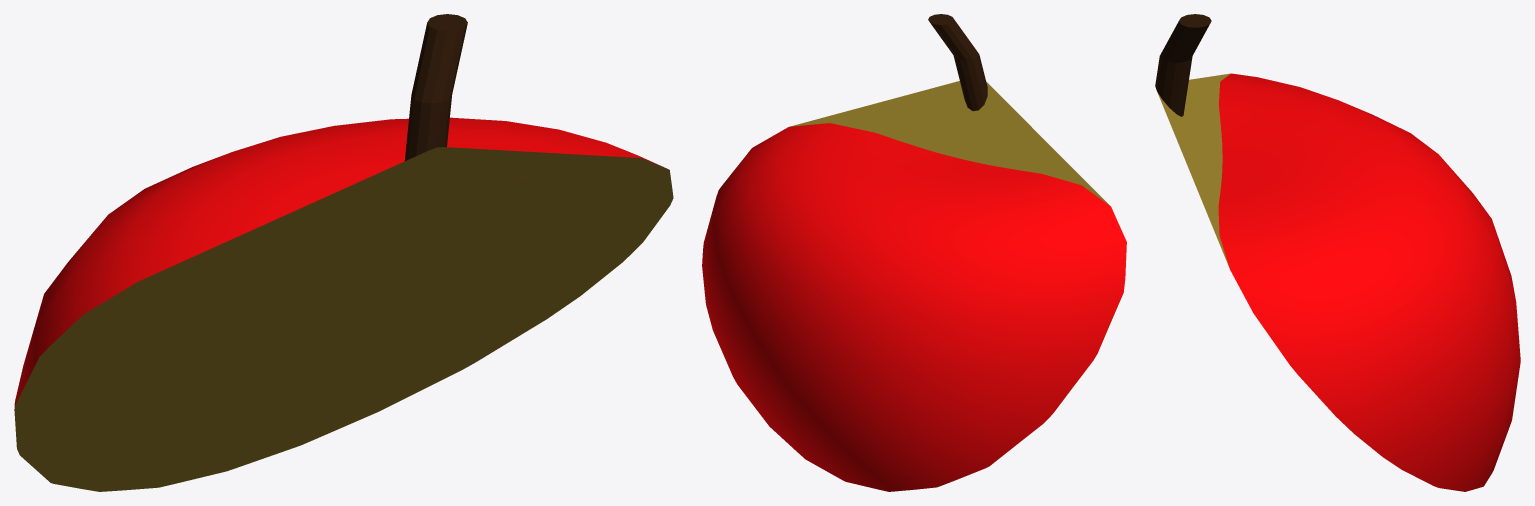
File: apple06.fbx
The picture shows the model from 3 angles, left to right: view 1: azimuth 30°, elevation 25°; view 2: azimuth 150°, elevation 25°; view 3: azimuth 270°, elevation 25°; orthographic projection. The views are drawn at different scales.
Visible parts, largest first — view 1: apple06; view 2: apple06; view 3: apple06.
Part boxes in pixels (x1=…): apple06: x1=14, y1=14, x2=673, y2=491; apple06: x1=702, y1=14, x2=1126, y2=491; apple06: x1=1155, y1=14, x2=1520, y2=491.
Size of the model in its own units: 0.1672 by 0.1453 by 0.1038.
